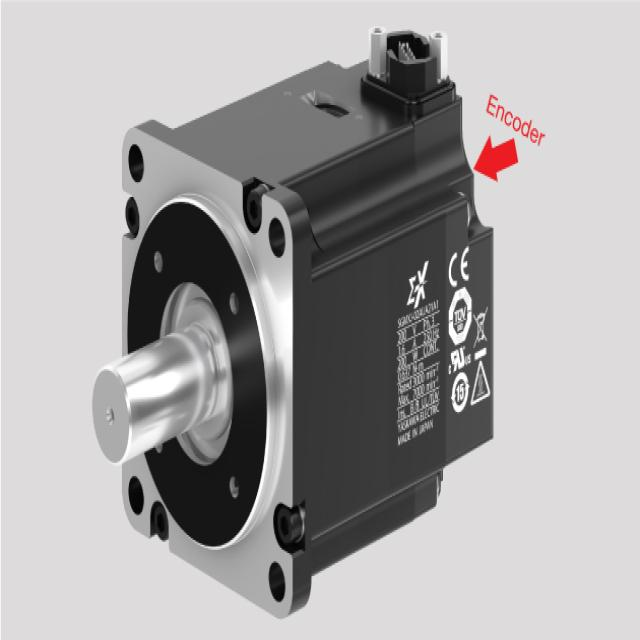servomotor: (104, 6, 514, 616)
